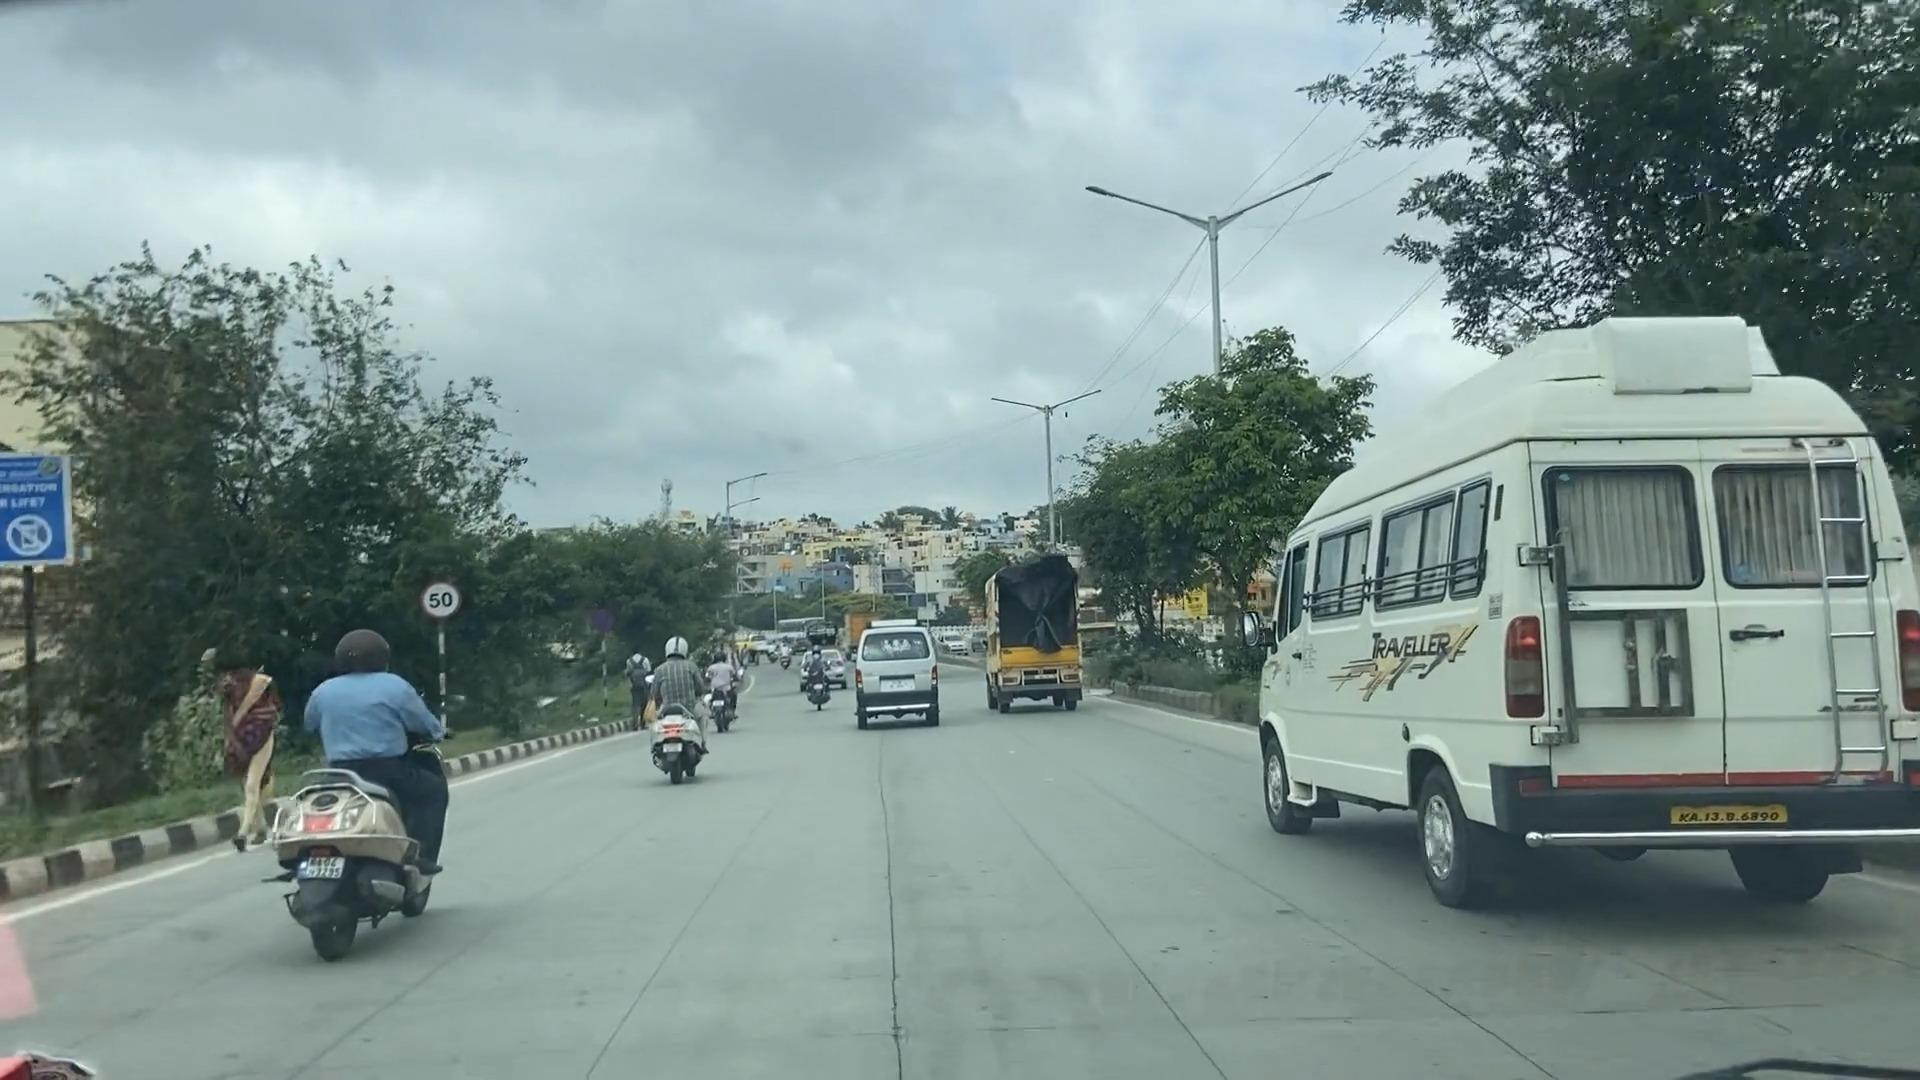HMV: (1275, 426, 1851, 922), (982, 553, 1104, 716)
LMV: (248, 628, 459, 943), (647, 630, 719, 782), (861, 628, 953, 727)
